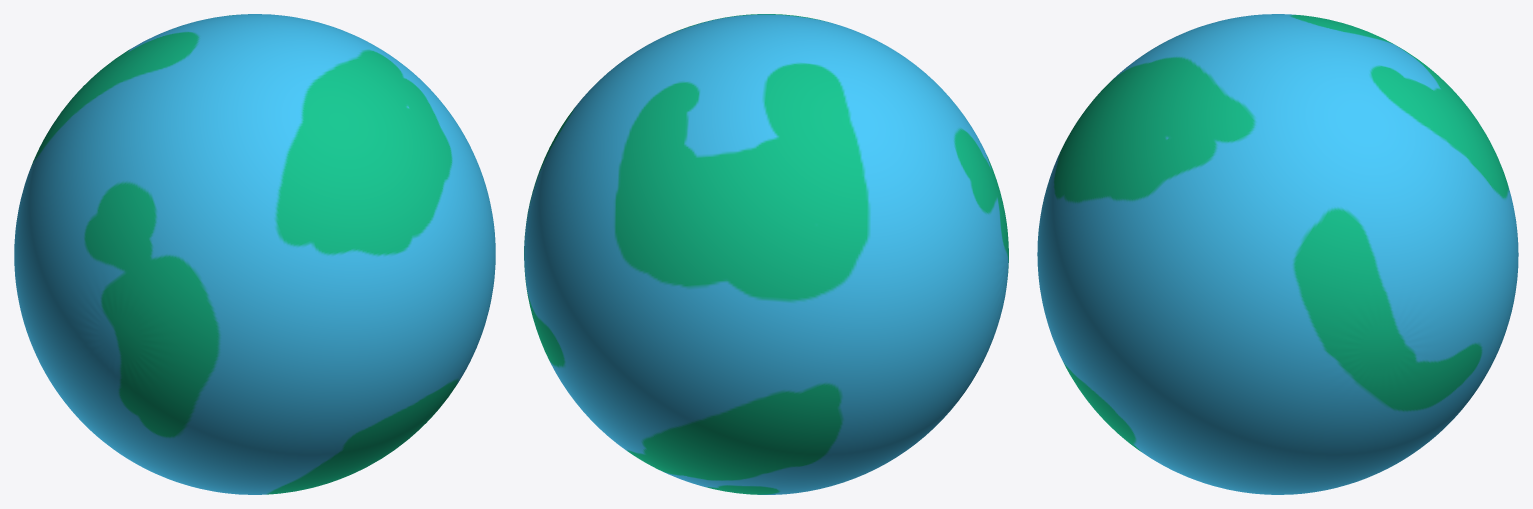
The model's file is earth.obj.
3 renders of one model, left to right at view 1: azimuth 30°, elevation 25°; view 2: azimuth 150°, elevation 25°; view 3: azimuth 270°, elevation 25°, orthographic.
Parts seen in each view (by area): view 1: 球; view 2: 球; view 3: 球.
Boxes of the visible parts, x1,y1,x2,y2 form: 球: [14, 14, 495, 494]; 球: [524, 14, 1008, 494]; 球: [1037, 14, 1518, 494].
Bounding box in the file's own units: 1.98 × 1.97 × 1.98.
1 material, 1 textured.
